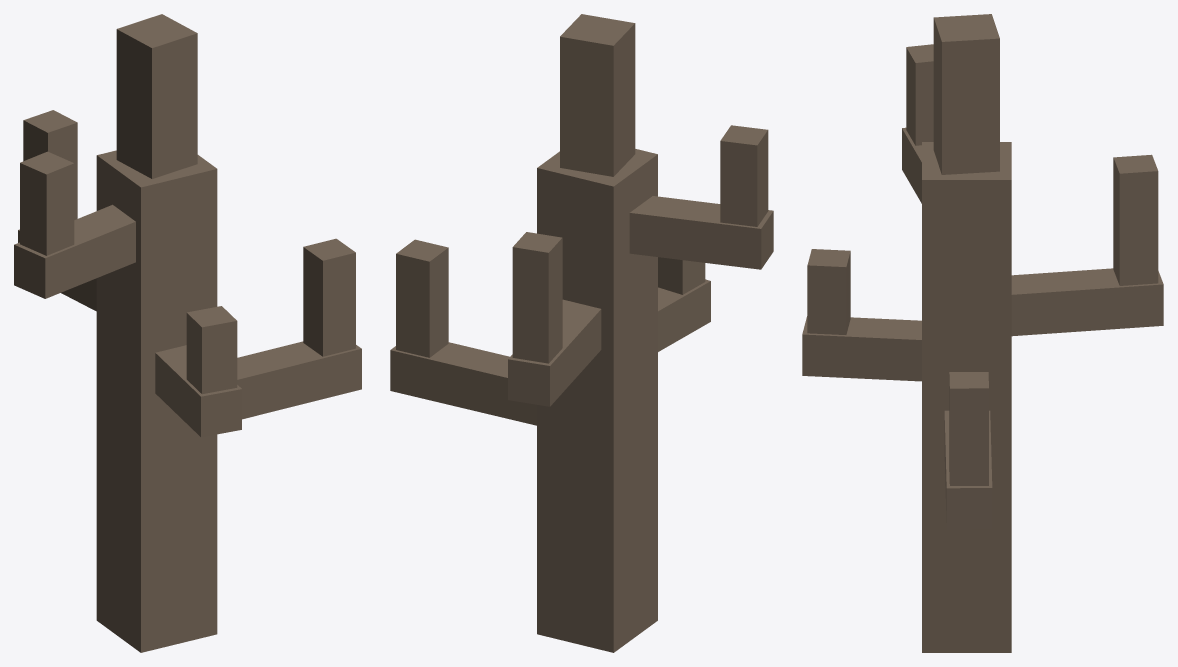
File: A09_dead_tree.obj
The picture shows the model from 3 angles, left to right: view 1: azimuth 30°, elevation 25°; view 2: azimuth 150°, elevation 25°; view 3: azimuth 270°, elevation 25°; orthographic projection.
Parts seen in each view (by area): view 1: A09_dead_tree; view 2: A09_dead_tree; view 3: A09_dead_tree.
Boxes of the visible parts, x1,y1,x2,y2 form: A09_dead_tree: (14,14,361,652); A09_dead_tree: (390,14,773,652); A09_dead_tree: (802,14,1163,652).
Bounding box in the file's own units: 2.5 × 4.1 × 2.22.
